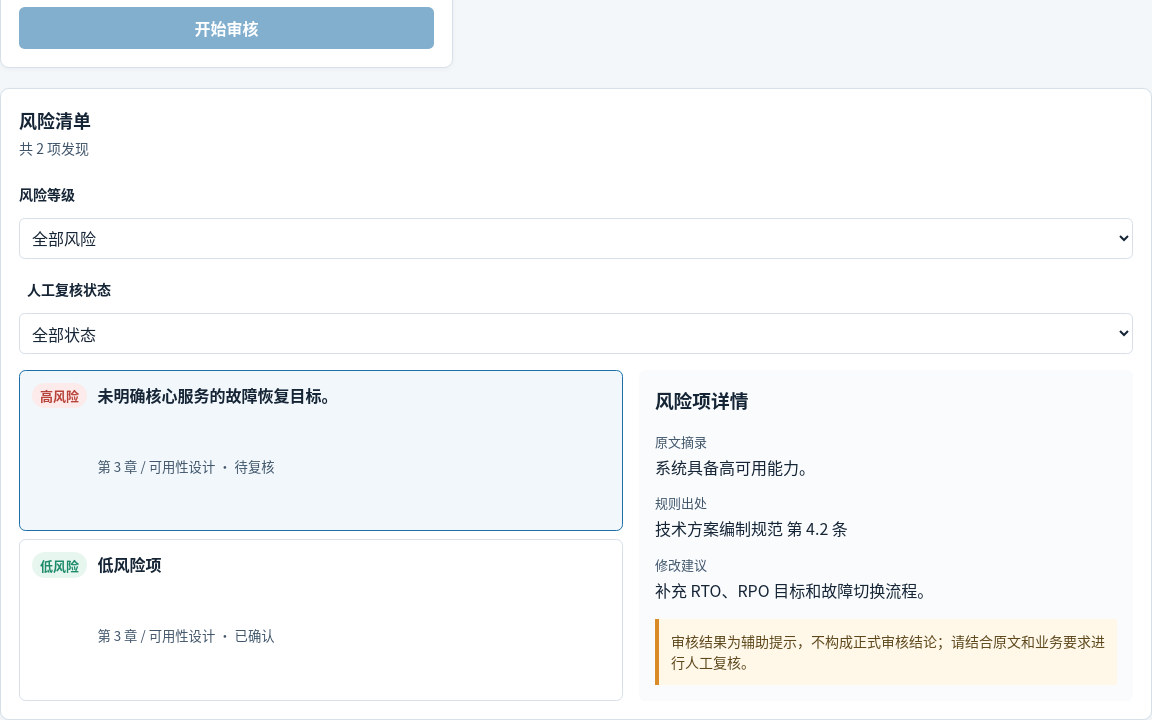
Scenario: clears a selected finding when the active filters exclude it
(page scrolled)
Click the button "低风险 低风险项 第 3 章 / 可用性设计 · 已确认" at point(60, 565), box [19,540,623,701]
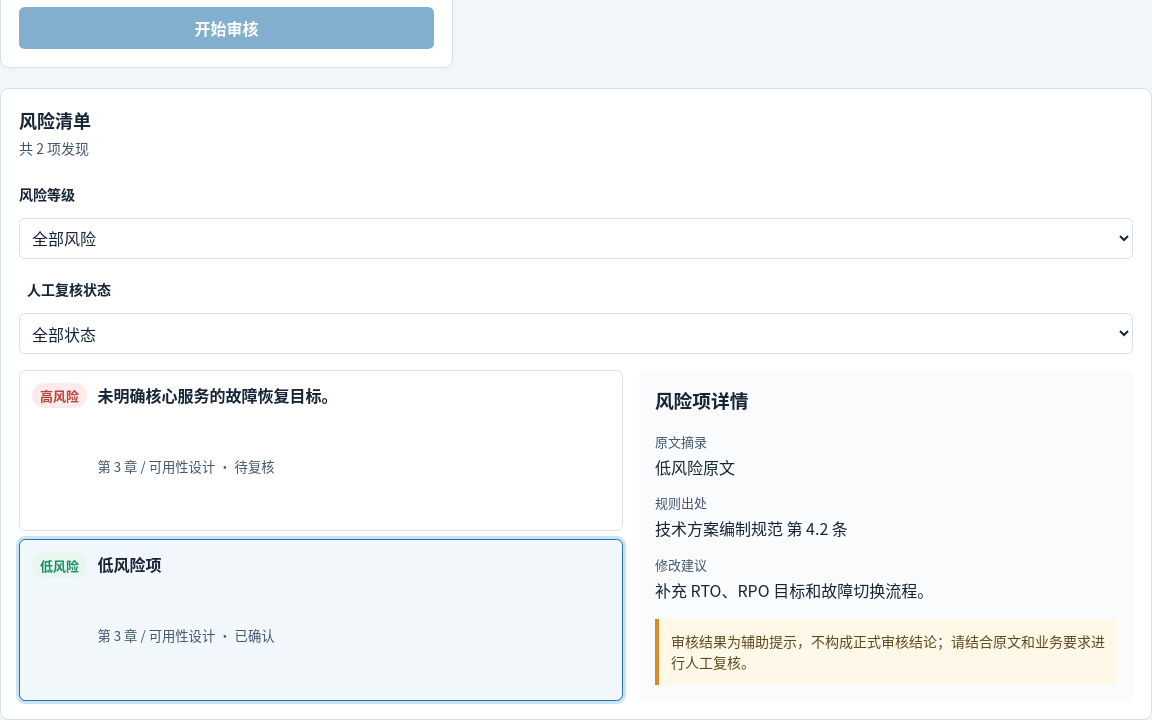
Check: the element labelled "风险项详情" shows "低风险原文", box [655,455,735,479]
Select "高" in the dropdown labelled "风险等级" at point(576, 238), box [19,218,1133,259]
(page scrolled)
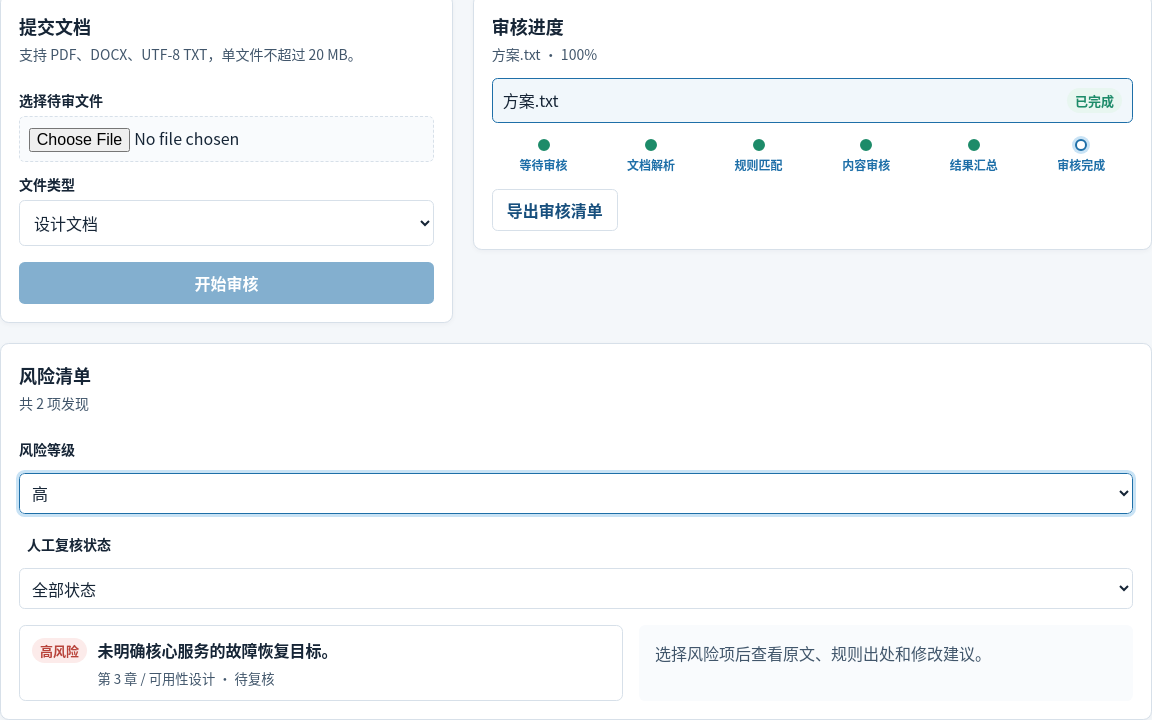
Check: the element named "风险项详情" no longer shows "低风险原文", box [639,625,1133,701]
Check: the element named "风险项详情" shows "选择风险项后查看", box [655,641,991,665]
